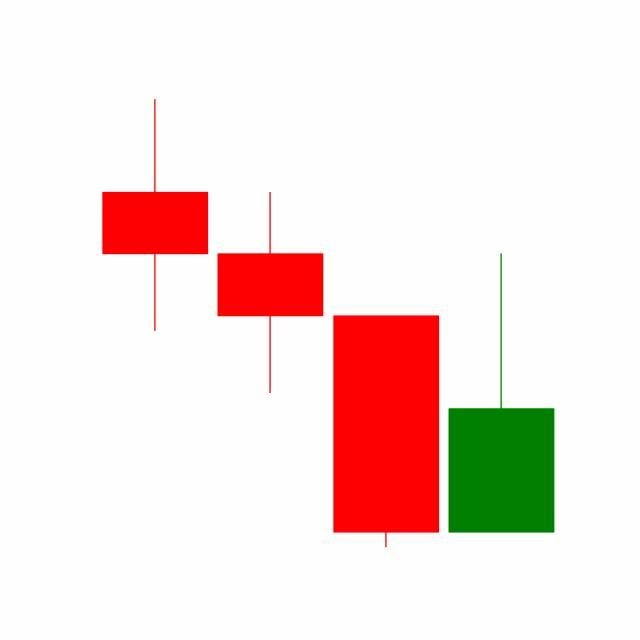Marubozu: (329, 314, 445, 552)
